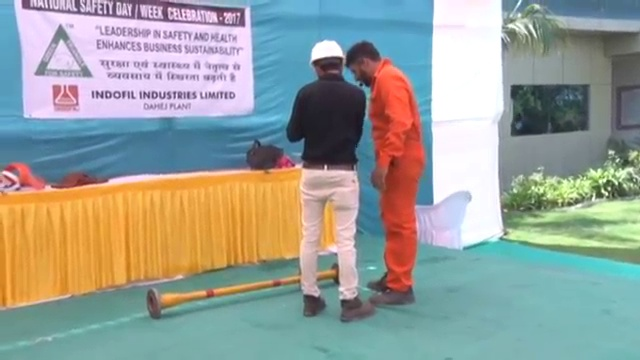helmet: (309, 39, 347, 67)
helmet_off: (342, 35, 382, 88)
helmet_on: (304, 39, 348, 80)
person: (286, 38, 372, 318), (344, 35, 426, 310)
